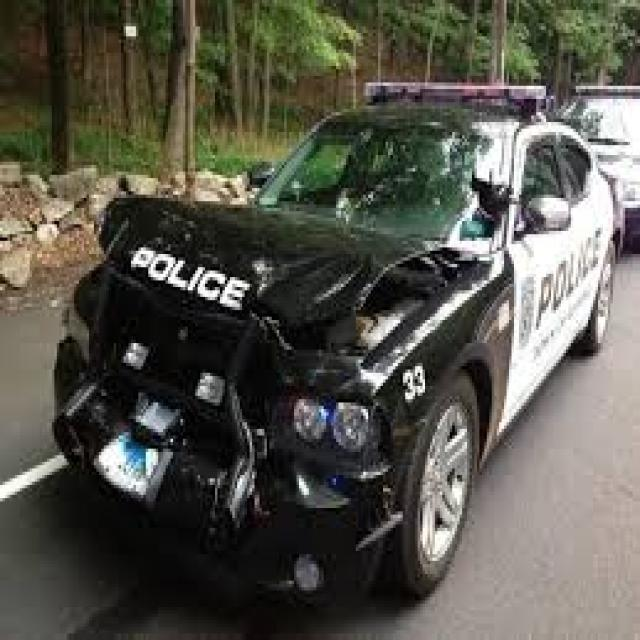severe: (57, 227, 440, 564)
